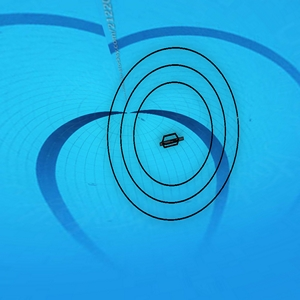circle: (102, 38, 237, 228)
submarine: (161, 131, 185, 148)
